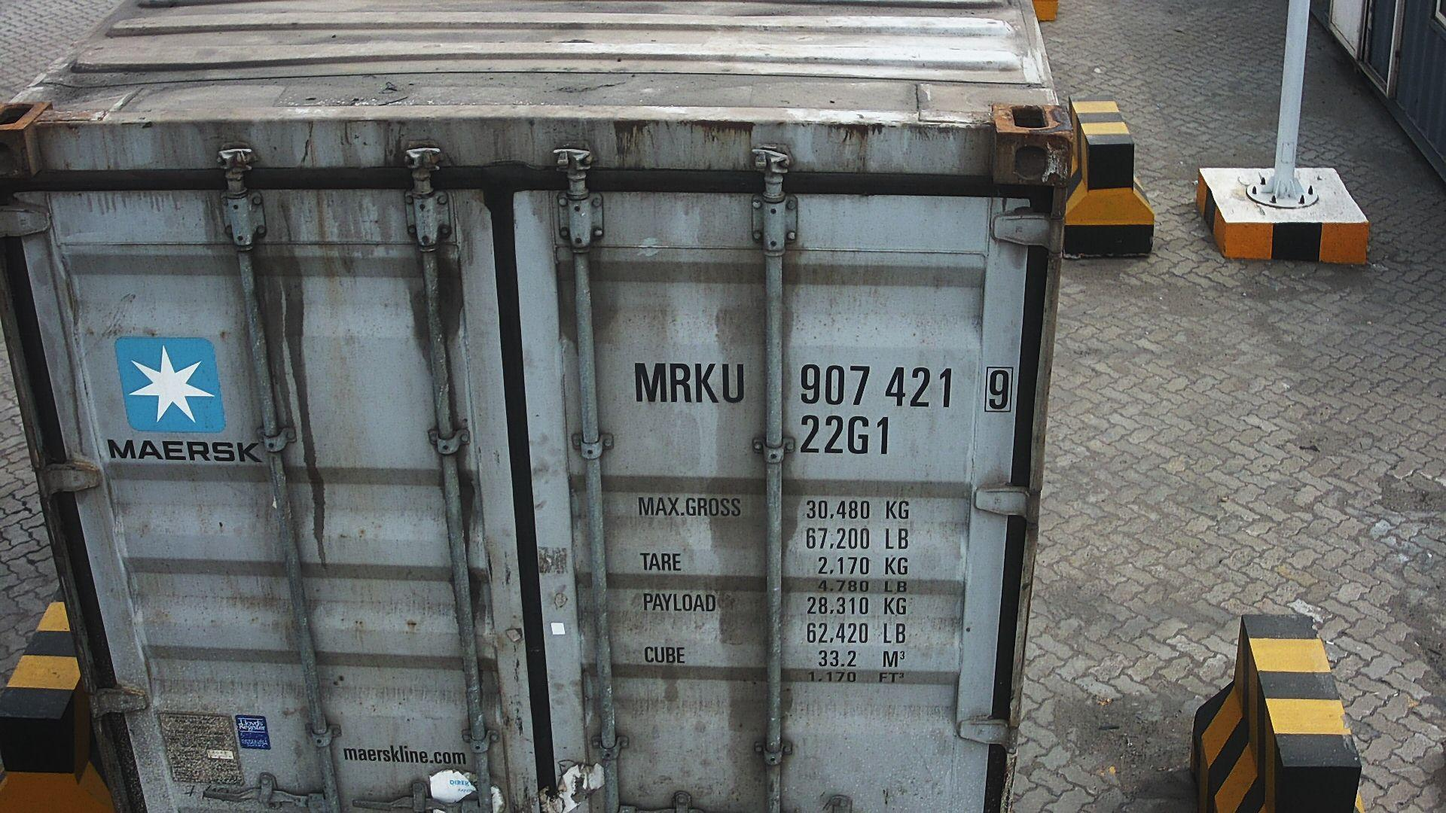container-numbers: (624, 358, 1020, 414), (796, 413, 895, 458)
